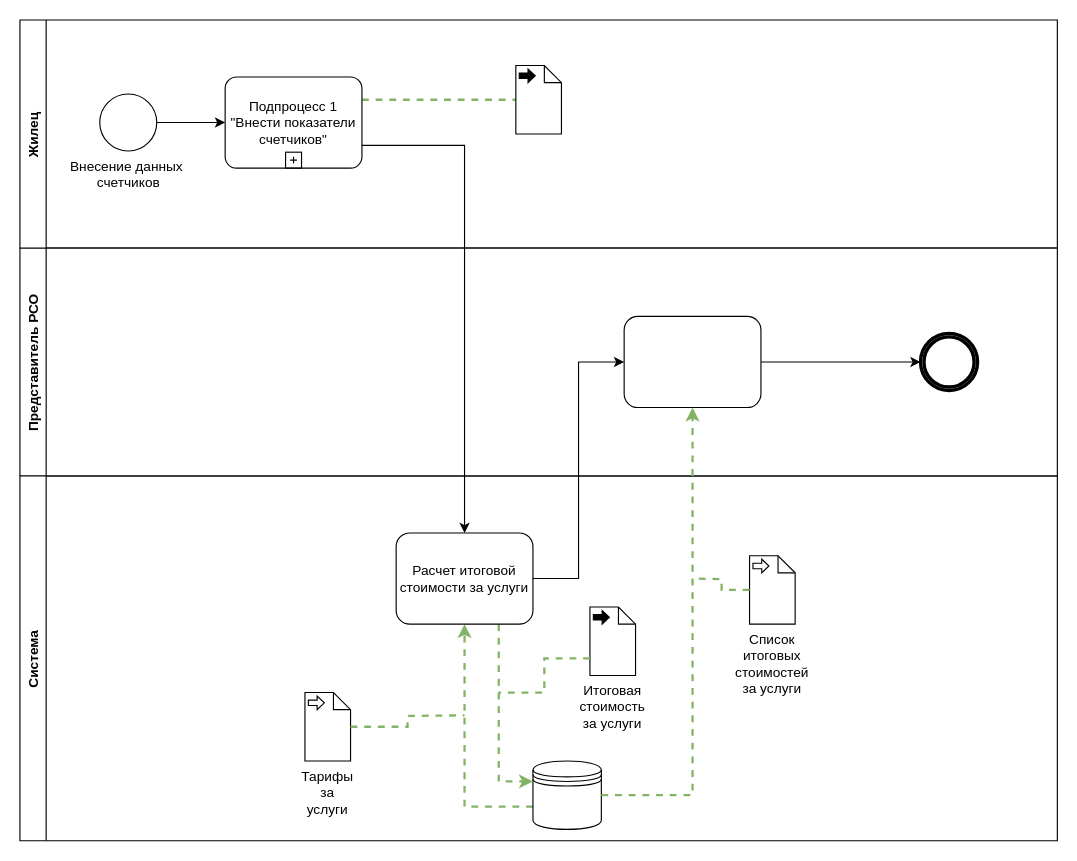
Image size: 1077x861. Some labels were removed from this diagram. The shapes that lost their labels are listed below. From the top down, each one's centre as x and y in pixels, then its label:
At [538,99]: "Показатели счетчиков".
At [692,361]: "Отображение записей расчета".
At [948,361]: "Расчеты произведены".
At [566,794]: "База данных".
